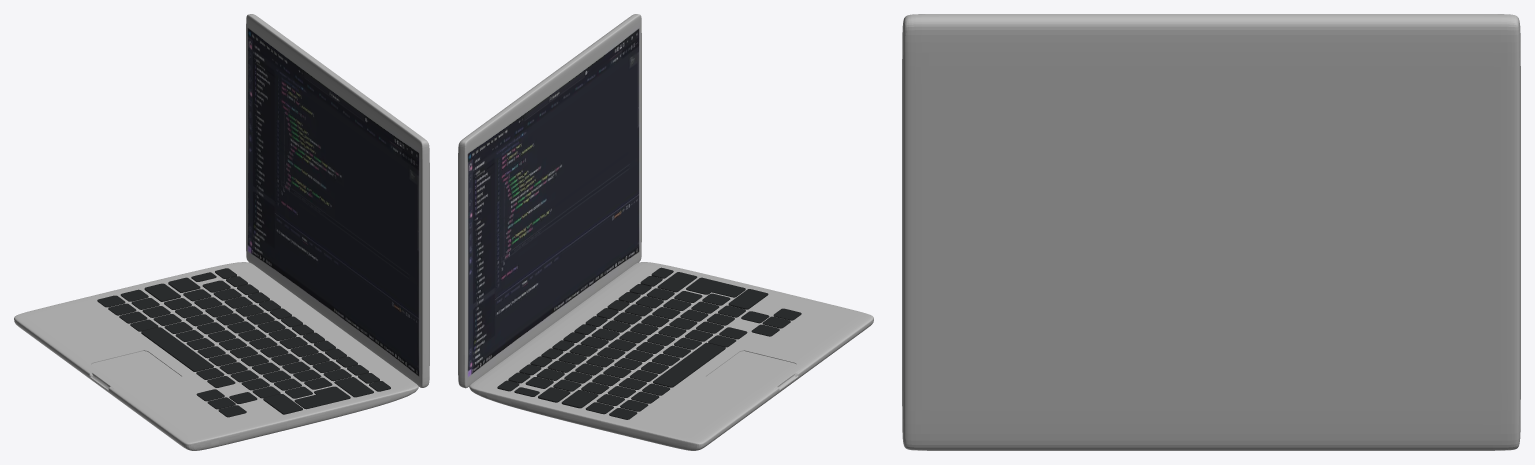
File: TexturePC-transformed.glb
The picture shows the model from 3 angles, left to right: view 1: azimuth 30°, elevation 25°; view 2: azimuth 150°, elevation 25°; view 3: azimuth 270°, elevation 25°; orthographic projection. The views are drawn at different scales.
Parts seen in each view (by area): view 1: Cube.002, Cube.003, Cube; view 2: Cube.002, Cube.003, Cube; view 3: Cube.002.
Part boxes in pixels (box(x1,y1,x2,y2)): Cube.002: box(246, 14, 429, 387); Cube.003: box(14, 262, 418, 450); Cube: box(97, 268, 390, 417); Cube.002: box(458, 14, 641, 388); Cube.003: box(469, 262, 873, 450); Cube: box(497, 267, 801, 419); Cube.002: box(902, 14, 1520, 450).
Size of the model in its own units: 1.59 by 1.6 by 2.
Materials: 3 (2 with a texture image).
